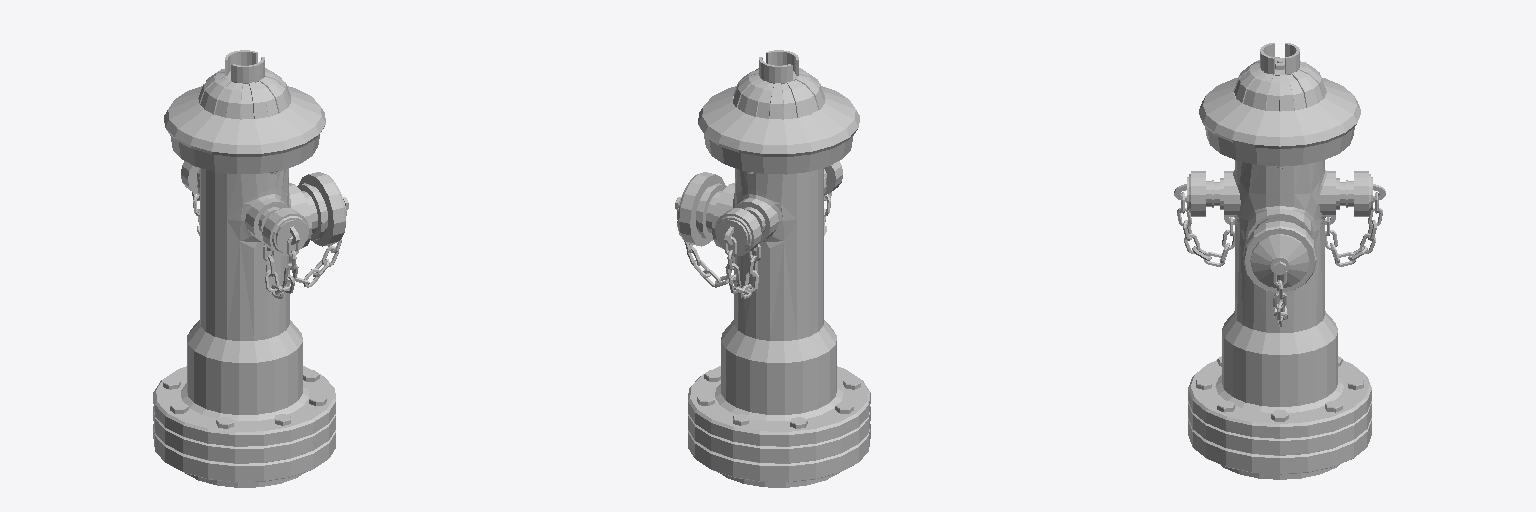
File: FireHydrant_LOD0.obj
The picture shows the model from 3 angles: view 1: azimuth 30°, elevation 25°; view 2: azimuth 150°, elevation 25°; view 3: azimuth 270°, elevation 25°; orthographic projection.
Visible parts, largest first — view 1: FireHydrant_LOD0 FireHydrant; view 2: FireHydrant_LOD0 FireHydrant; view 3: FireHydrant_LOD0 FireHydrant.
Part boxes in pixels (x1,y1,x2,y2): FireHydrant_LOD0 FireHydrant: (153,50,348,487); FireHydrant_LOD0 FireHydrant: (675,50,870,487); FireHydrant_LOD0 FireHydrant: (1174,43,1385,479).
Size of the model in its own units: 49.51 by 104 by 50.24.